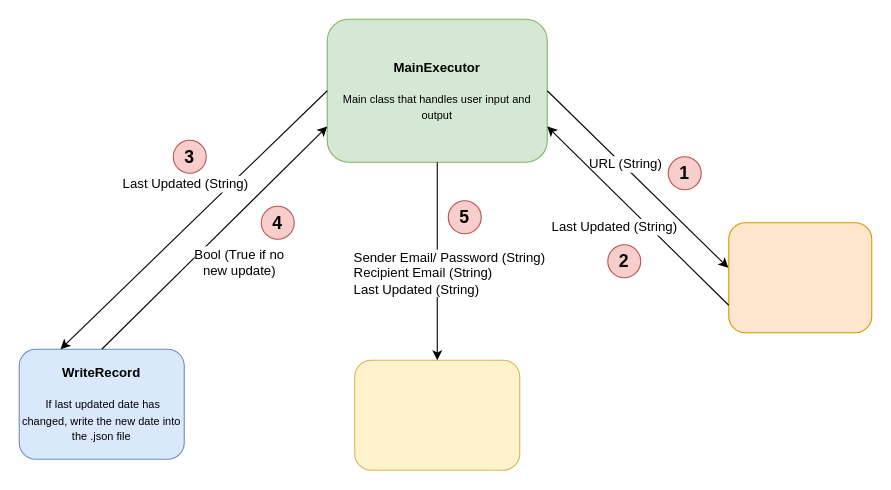
Some shapes in this 891 by 490 pixel diagram are drawn without their labels. The centre of each missing label's shape, as x and y in pixels:
"EmailSender Send email notification with the last updated date" belongs at (x=437, y=414).
"PageParser Find the last updated date of a given URL" belongs at (x=800, y=277).
